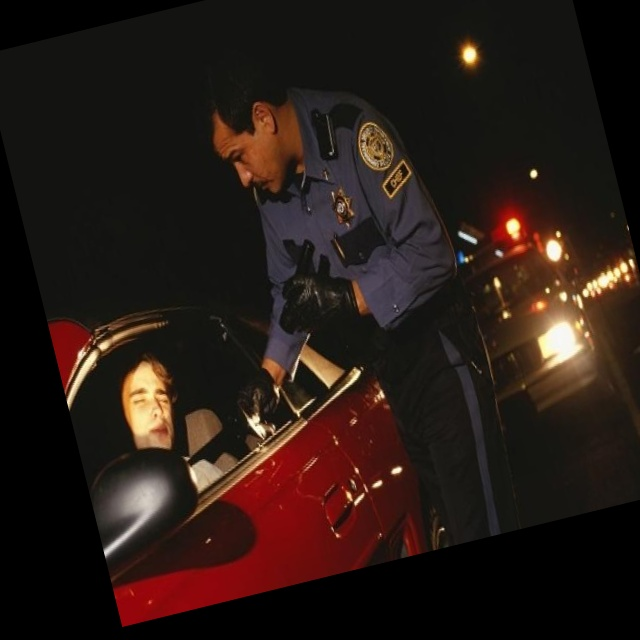Sin_Casco_Mascarrilla: (187, 40, 299, 206), (108, 347, 187, 462)
